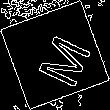M_NW: (22, 23, 88, 87)
